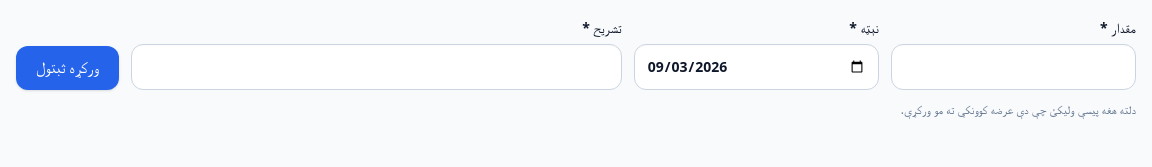
Test: supplier pages › validates payment amount
The width and height of the screenshot is (1152, 167).
Type "0" into the number field labelled "مقدار" at (1013, 67), box 891,44 -> 1136,90
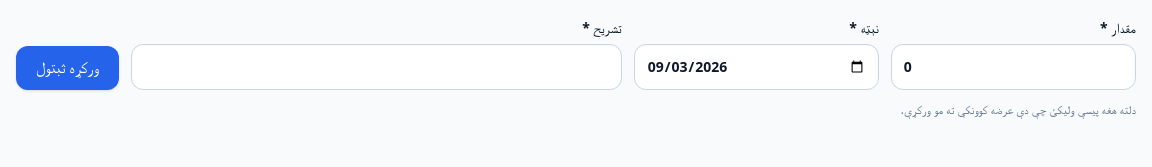
Type "Payment" into the field labelled "تشریح" at (376, 67), box 131,44 -> 622,90
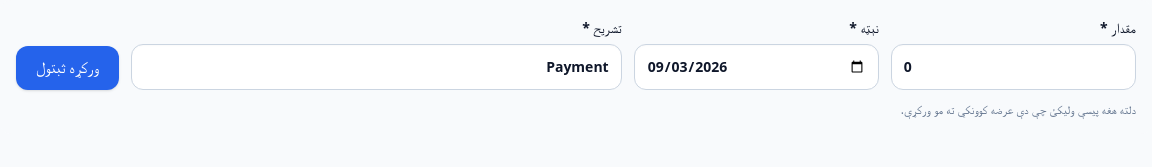
Submit the form "ورکړه ثبتول"
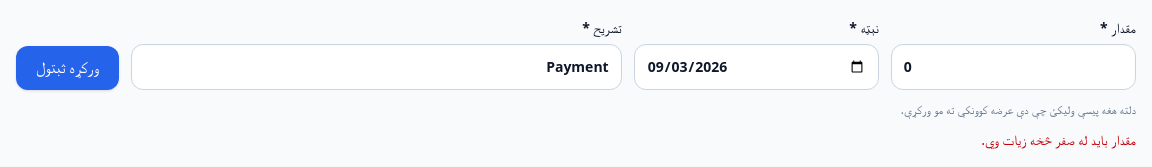
Check: the message reads "مقدار باید له صفر څخه زیات وي.", box 981,130 -> 1136,149
